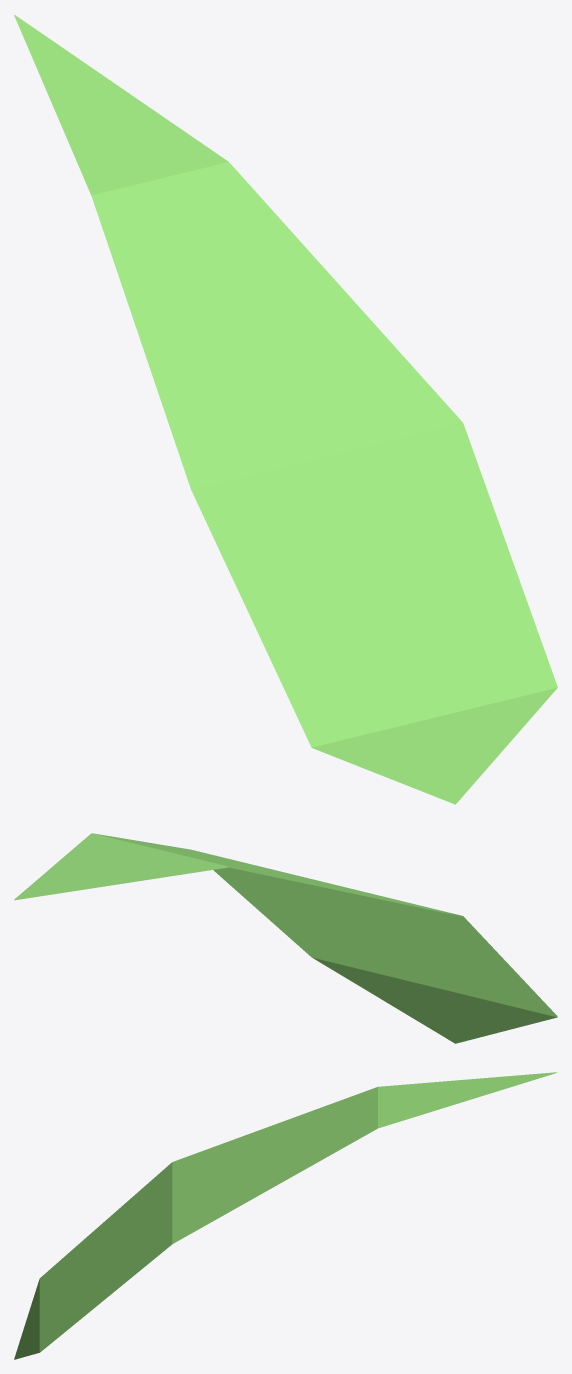
File: Plant_a_TwoS_01.fbx
The picture shows the model from 3 angles, top to bottom: view 1: azimuth 30°, elevation 25°; view 2: azimuth 150°, elevation 25°; view 3: azimuth 270°, elevation 25°; orthographic projection. The views are drawn at different scales.
Visible parts, largest first — view 1: Plant_a_TwoS_01; view 2: Plant_a_TwoS_01; view 3: Plant_a_TwoS_01.
Boxes of the visible parts, x1=… form: Plant_a_TwoS_01: x1=14, y1=14, x2=557, y2=804; Plant_a_TwoS_01: x1=14, y1=833, x2=557, y2=1043; Plant_a_TwoS_01: x1=14, y1=1072, x2=557, y2=1359.
Bounding box in the file's own units: 36.15 × 59.35 × 102.
